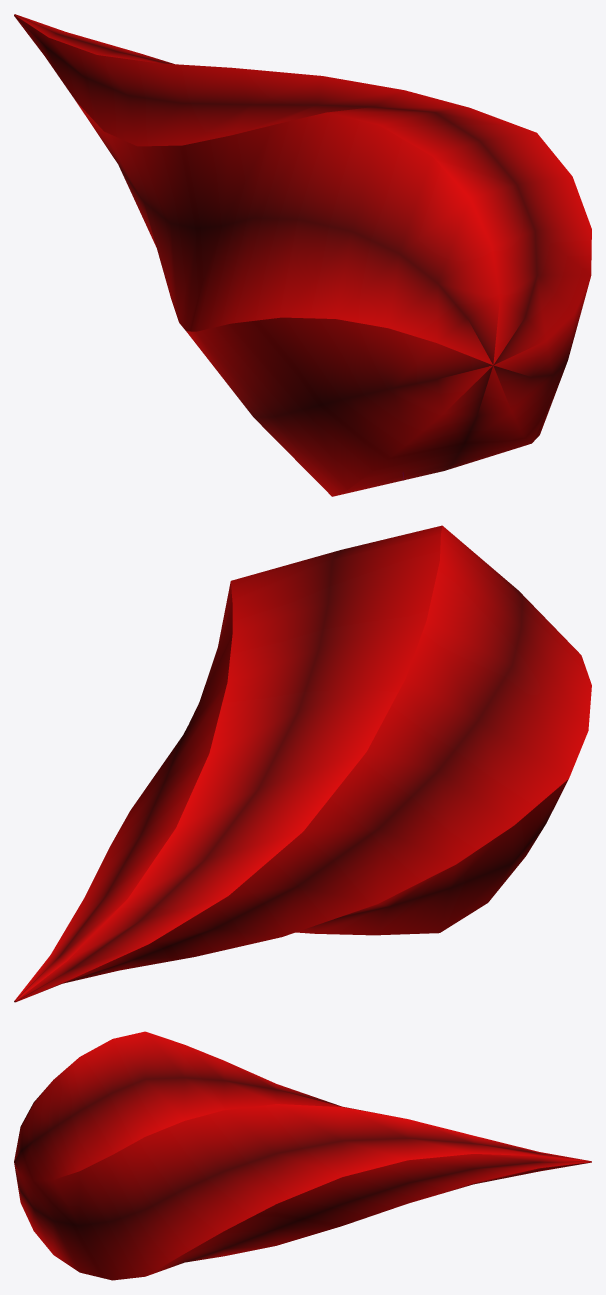
File: weapon_fx.fbx
3 renders of one model, top to bottom at view 1: azimuth 30°, elevation 25°; view 2: azimuth 150°, elevation 25°; view 3: azimuth 270°, elevation 25°, orthographic. The views are drawn at different scales.
Visible parts, largest first — view 1: bolt_hull; view 2: bolt_hull; view 3: bolt_hull.
Part boxes in pixels (x1,y1,x2,y2): bolt_hull: [14, 14, 591, 496]; bolt_hull: [14, 525, 591, 1002]; bolt_hull: [14, 1031, 591, 1280].
Bounding box in the file's own units: 1.86 × 1.9 × 4.4.
